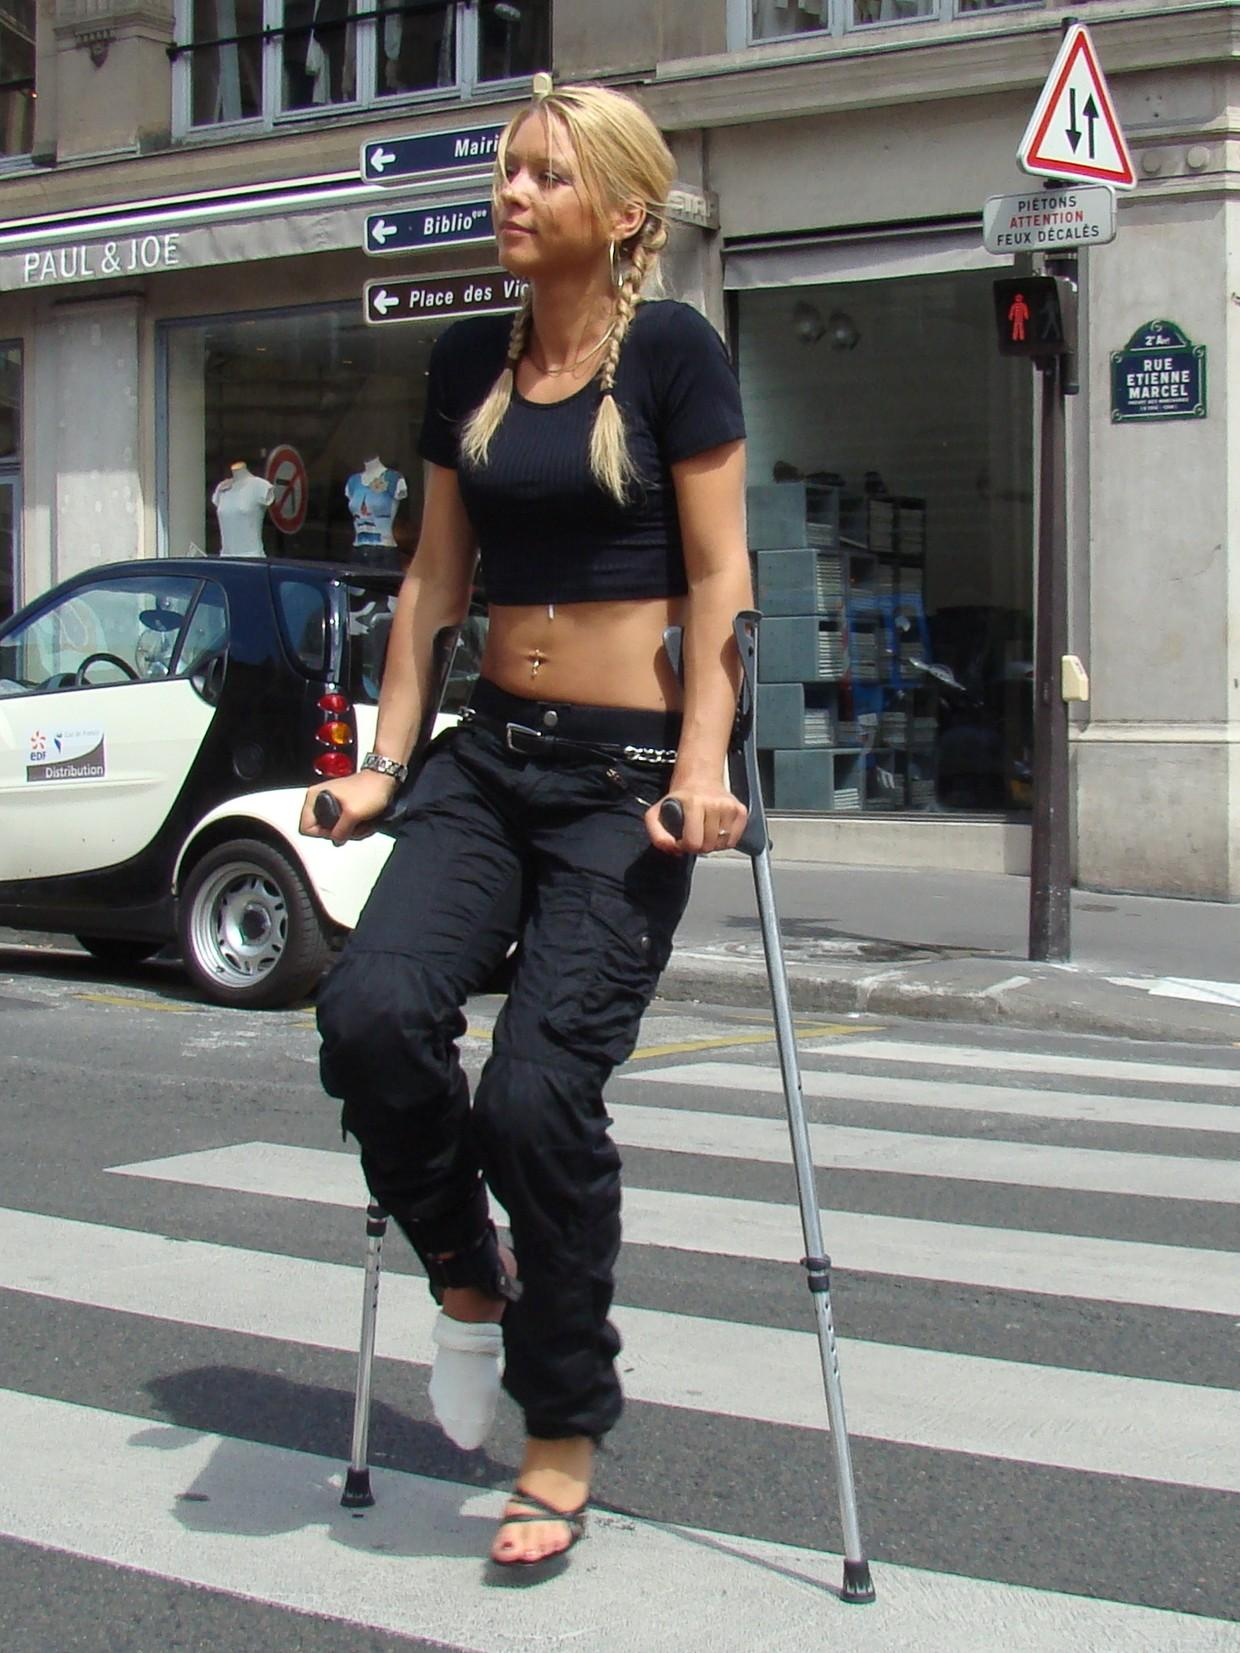crutches: (297, 85, 875, 1602)
